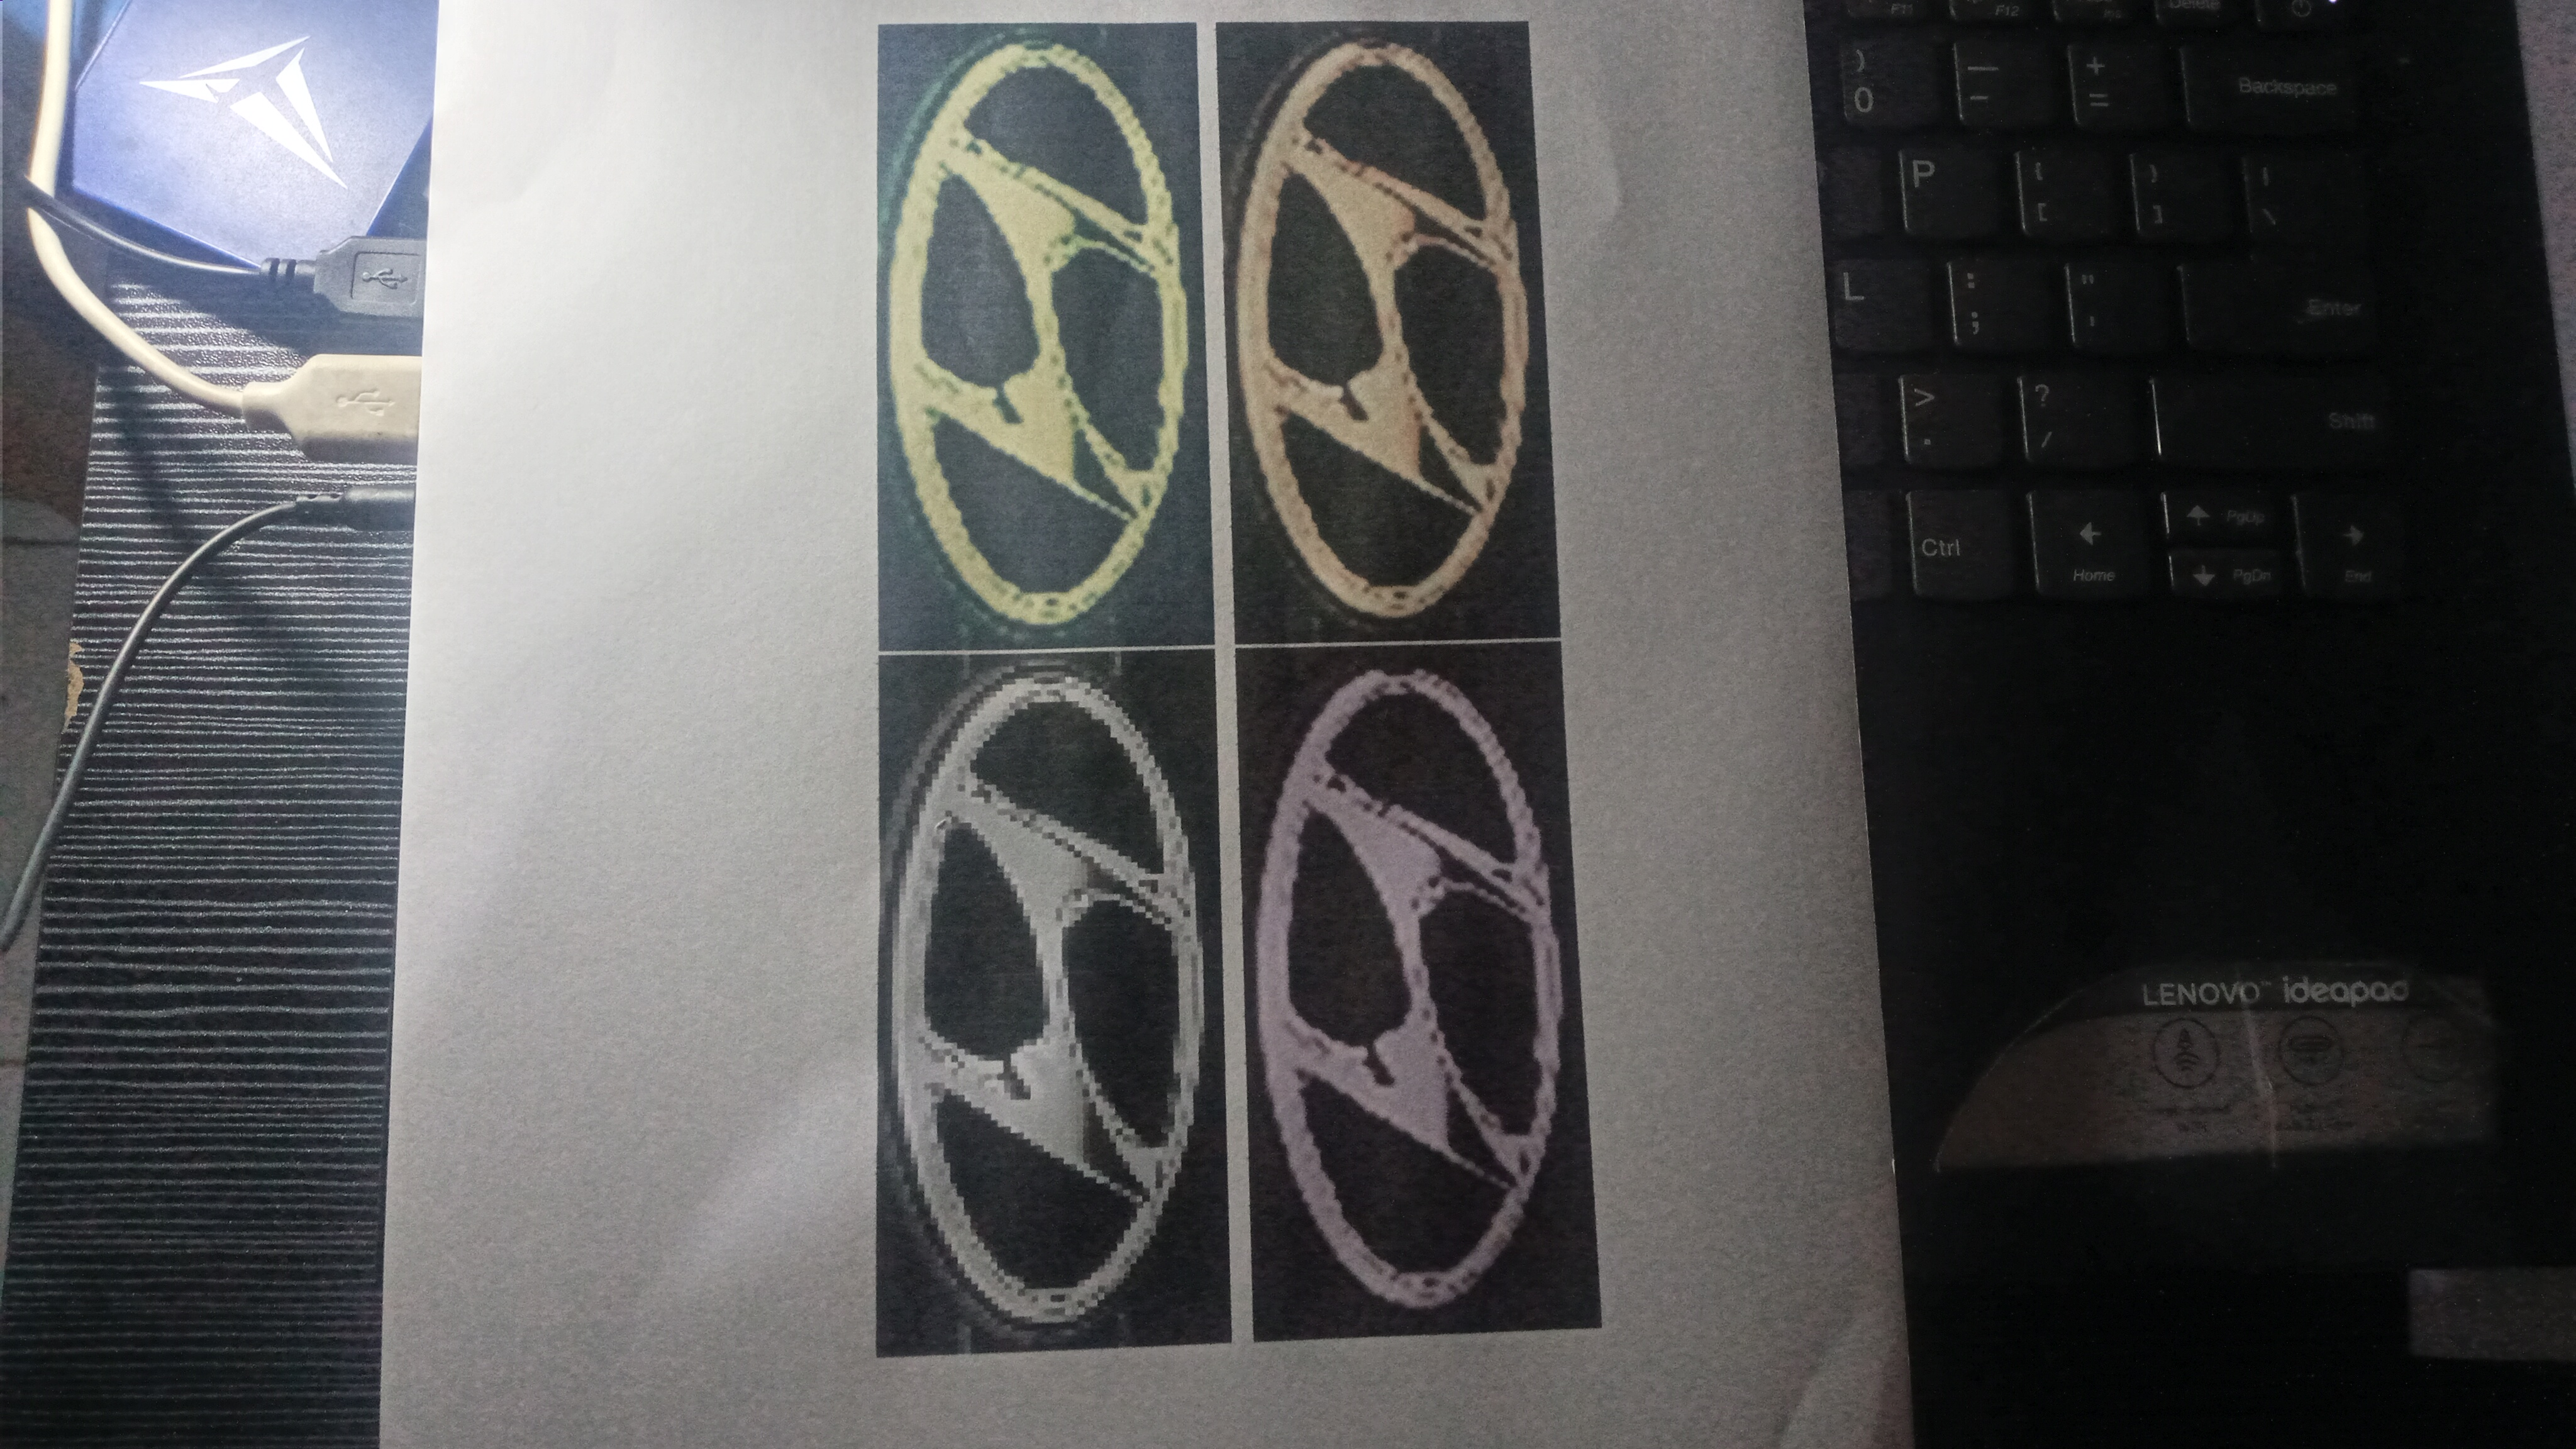Hyundai: (1238, 633, 1626, 1369), (858, 663, 1238, 1369), (1203, 25, 1589, 635), (851, 18, 1212, 640)
